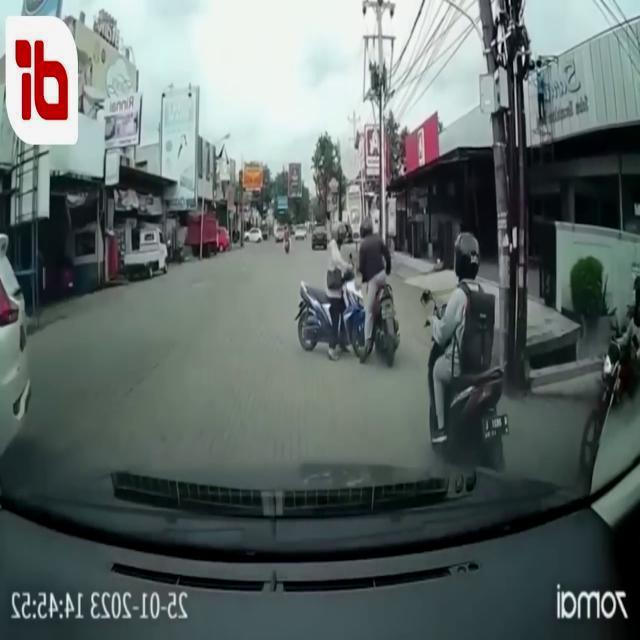accident: (294, 218, 402, 369)
non-accident: (274, 224, 290, 253)
